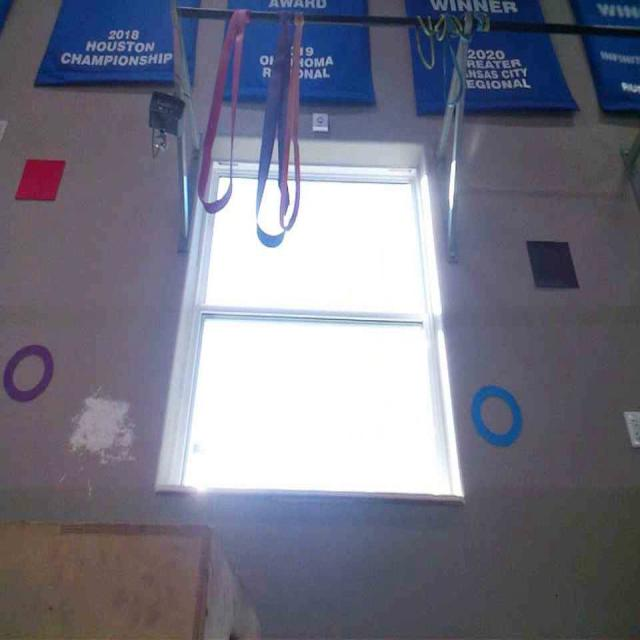ring_blue: (468, 385, 522, 446)
ring_purple: (0, 343, 55, 403)
square_black: (526, 240, 580, 289)
square_red: (15, 156, 66, 201)
